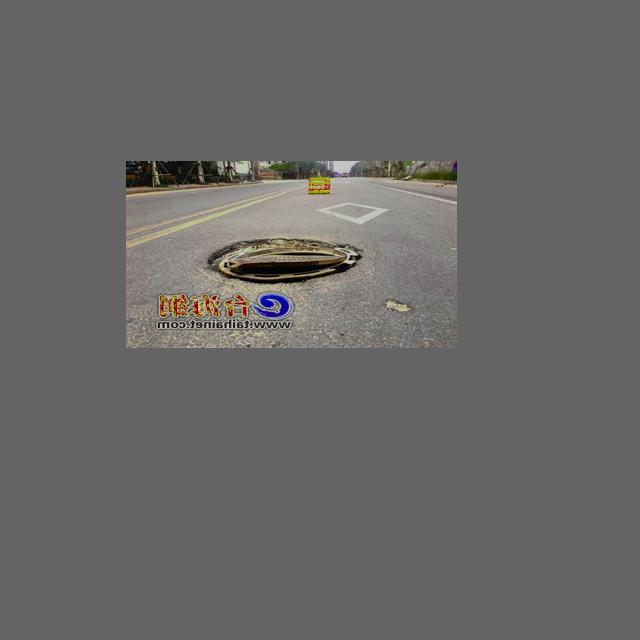circle: (185, 232, 397, 294)
